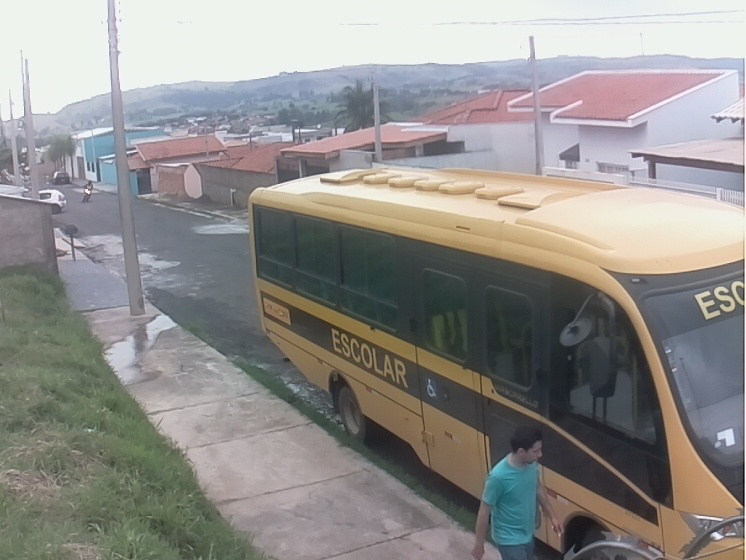person: (471, 425, 564, 560)
